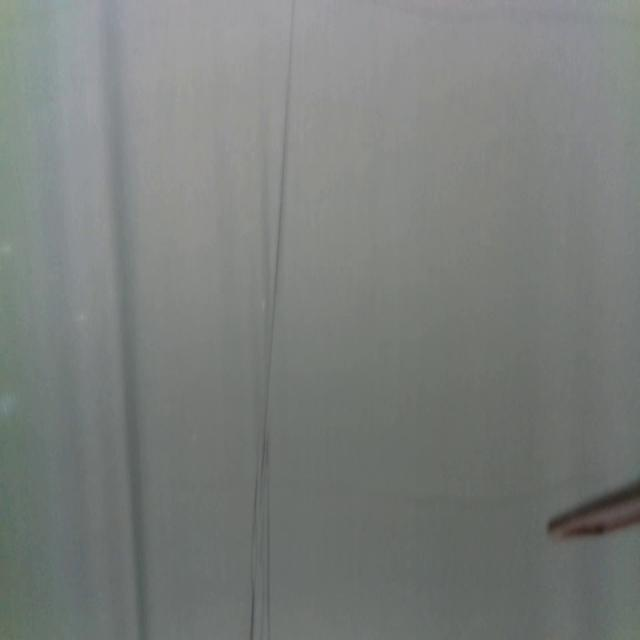crease: (247, 3, 296, 640)
